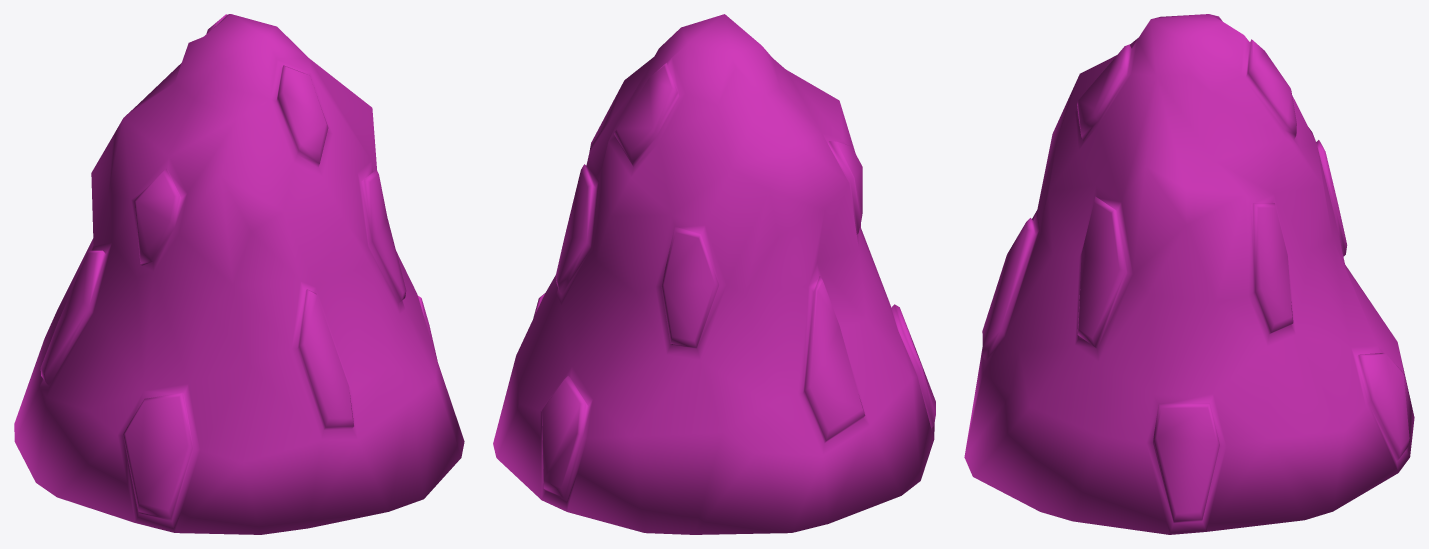
The model's file is Złoto.fbx.
3 views of the same model, side by side, from view 1: azimuth 30°, elevation 25°; view 2: azimuth 150°, elevation 25°; view 3: azimuth 270°, elevation 25° (orthographic). The views are drawn at different scales.
Visible parts, largest first — view 1: Rudaless_1.001; view 2: Rudaless_1.001; view 3: Rudaless_1.001.
Part boxes in pixels (box(x1,y1,x2,y2)): Rudaless_1.001: box(14, 14, 464, 534); Rudaless_1.001: box(493, 14, 935, 534); Rudaless_1.001: box(964, 14, 1414, 534).
Size of the model in its own units: 72.29 by 73.25 by 70.68.
